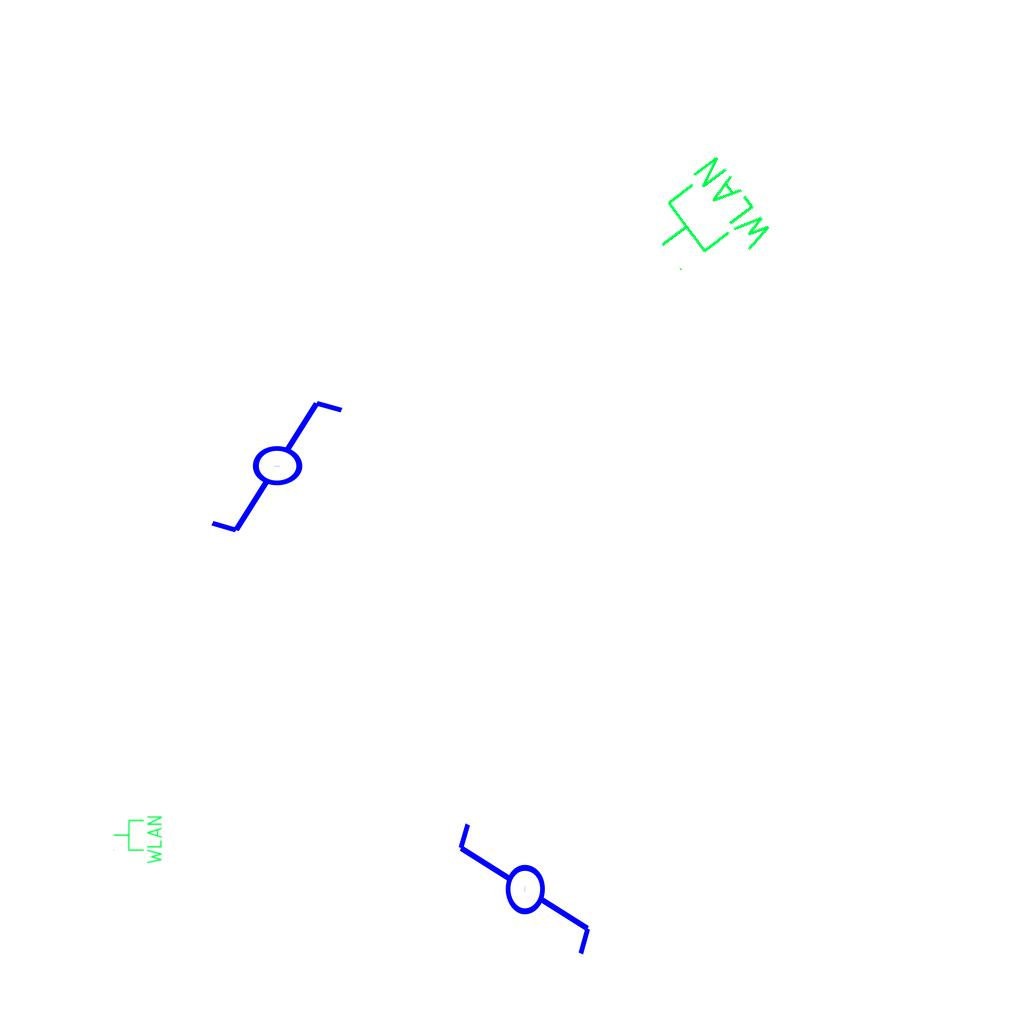WLAN: (633, 150, 781, 297), (112, 814, 164, 866)
Wechselschalter: (207, 396, 364, 540), (451, 819, 595, 976)
